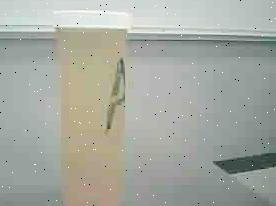Bottle A: (44, 5, 145, 206)
